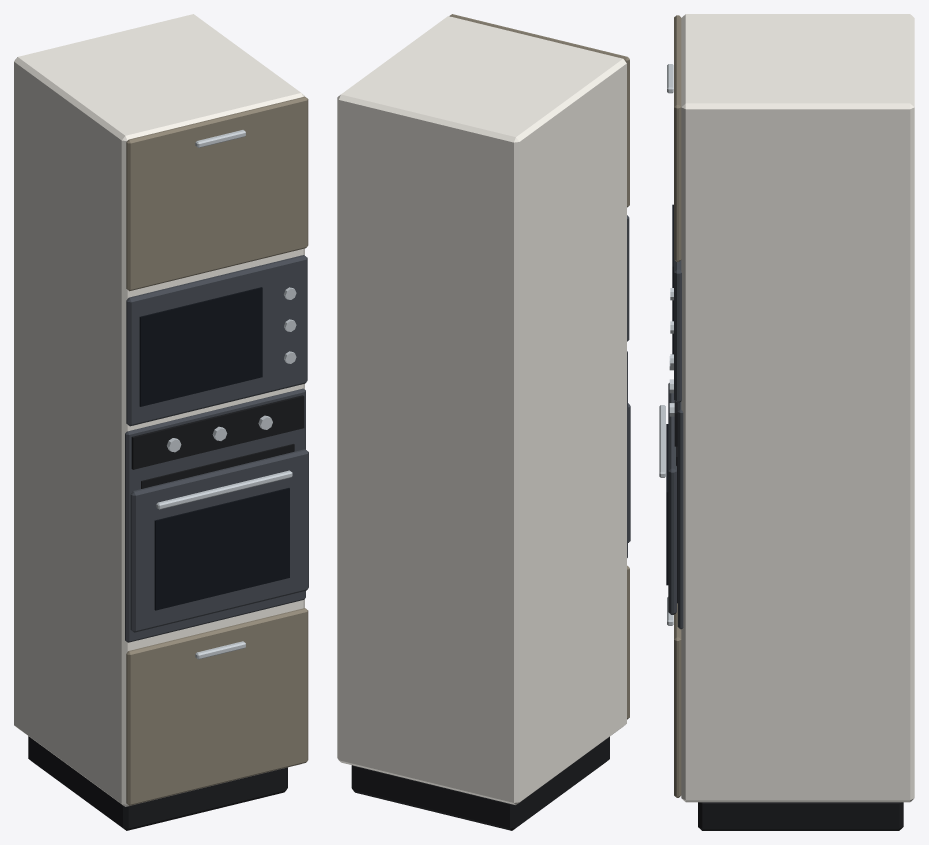
The model's file is kitchen_tower.glb.
3 views of the same model, side by side, from view 1: azimuth 30°, elevation 25°; view 2: azimuth 150°, elevation 25°; view 3: azimuth 270°, elevation 25° (orthographic). The views are drawn at different scales.
Visible parts, largest first — view 1: kitchen_tower_Body, kitchen_tower_OvenDoor; view 2: kitchen_tower_Body; view 3: kitchen_tower_Body, kitchen_tower_OvenDoor.
Part boxes in pixels (<box>): kitchen_tower_Body: <box>14,14,308,830</box>; kitchen_tower_OvenDoor: <box>130,449,308,632</box>; kitchen_tower_Body: <box>337,14,629,830</box>; kitchen_tower_Body: <box>667,14,914,830</box>; kitchen_tower_OvenDoor: <box>659,383,676,614</box>.
Size of the model in its own units: 0.6 by 2.2 by 0.695.
